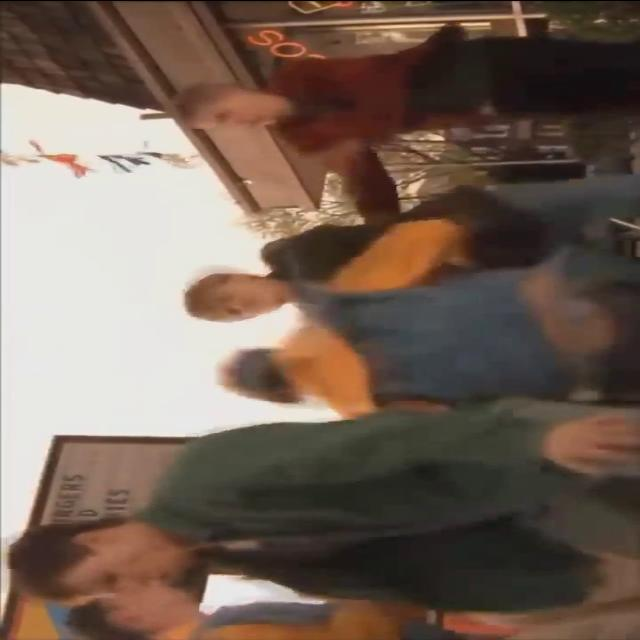Violence: (166, 190, 640, 408)
